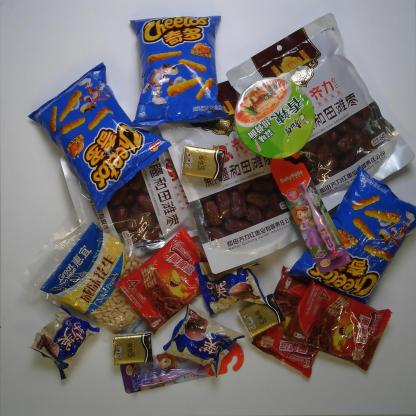Dessert: (113, 227, 218, 336), (282, 278, 393, 372), (252, 265, 343, 379), (164, 302, 245, 378), (28, 306, 100, 381), (193, 253, 267, 315)
Dried Food: (226, 12, 414, 217), (154, 70, 330, 274), (60, 101, 245, 262)
Dried Fruit: (23, 216, 170, 343)
Instant Noodles: (235, 78, 315, 159)
Personal Hygiene: (270, 149, 350, 273), (120, 341, 244, 393)
Puffed Food: (28, 61, 171, 211), (288, 166, 416, 310), (130, 15, 230, 128)
Tissue: (238, 294, 285, 338), (181, 146, 226, 180), (112, 330, 152, 364)
